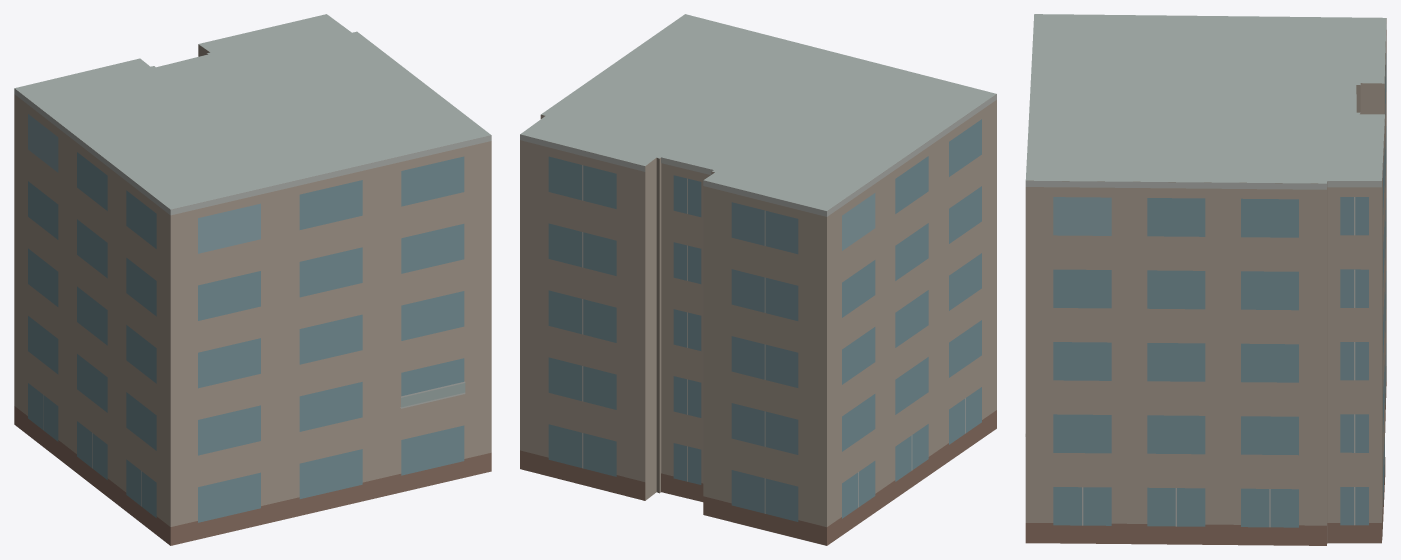
Rendered from survey-upis-32836127.glb.
3 views of the same model, side by side, from view 1: azimuth 30°, elevation 25°; view 2: azimuth 150°, elevation 25°; view 3: azimuth 270°, elevation 25° (orthographic). The views are drawn at different scales.
Parts seen in each view (by area): view 1: survey-upis-32836127.tmp; view 2: survey-upis-32836127.tmp; view 3: survey-upis-32836127.tmp.
Part boxes in pixels (x1,y1,x2,y2): survey-upis-32836127.tmp: (14,14,491,545); survey-upis-32836127.tmp: (520,14,996,545); survey-upis-32836127.tmp: (1025,14,1386,545).
Size of the model in its own units: 14.16 by 14.1 by 12.74.
